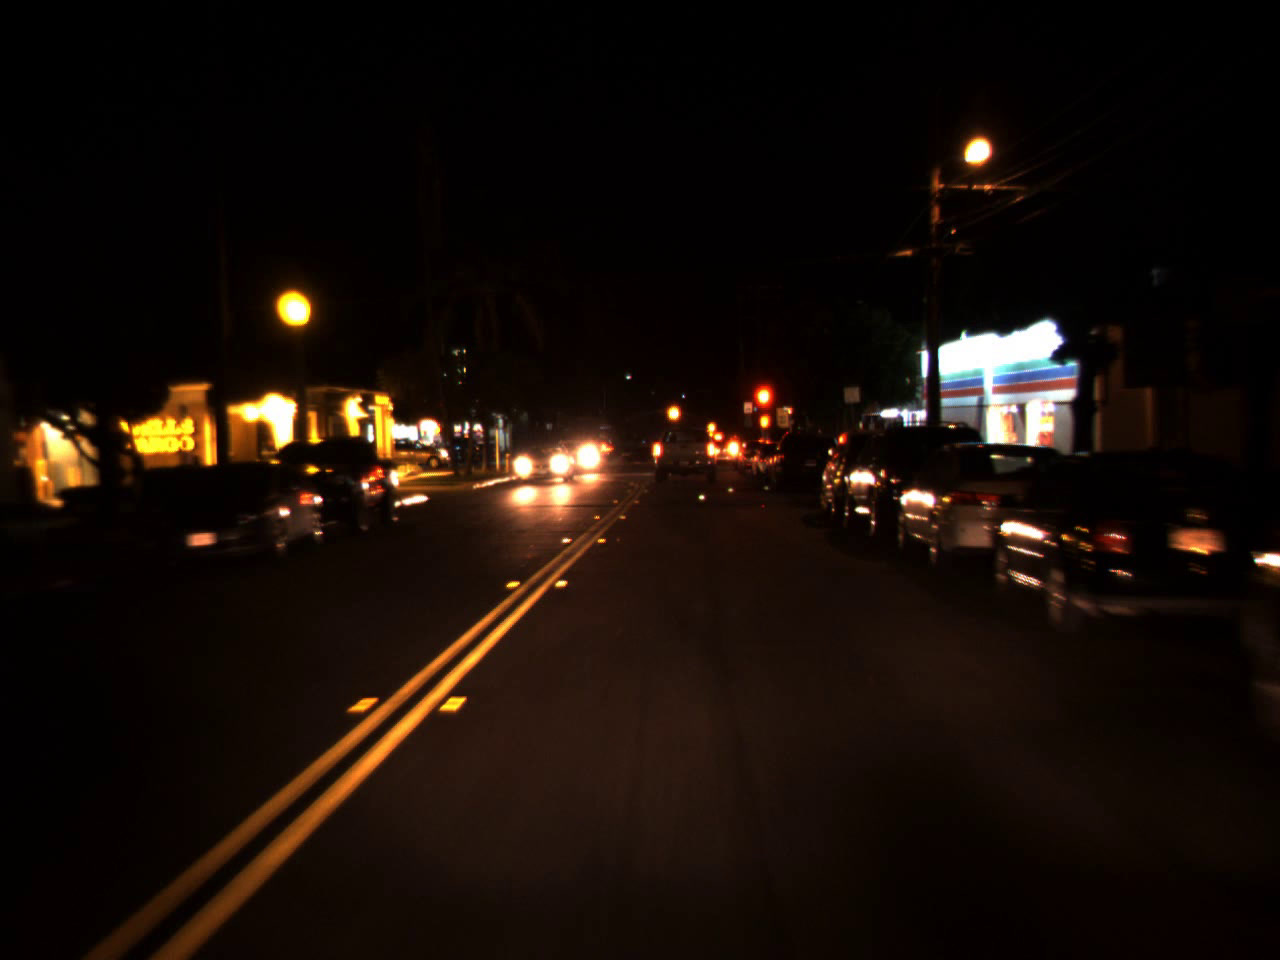stop: (749, 380, 777, 439)
warning: (663, 394, 684, 431), (707, 416, 717, 436)
